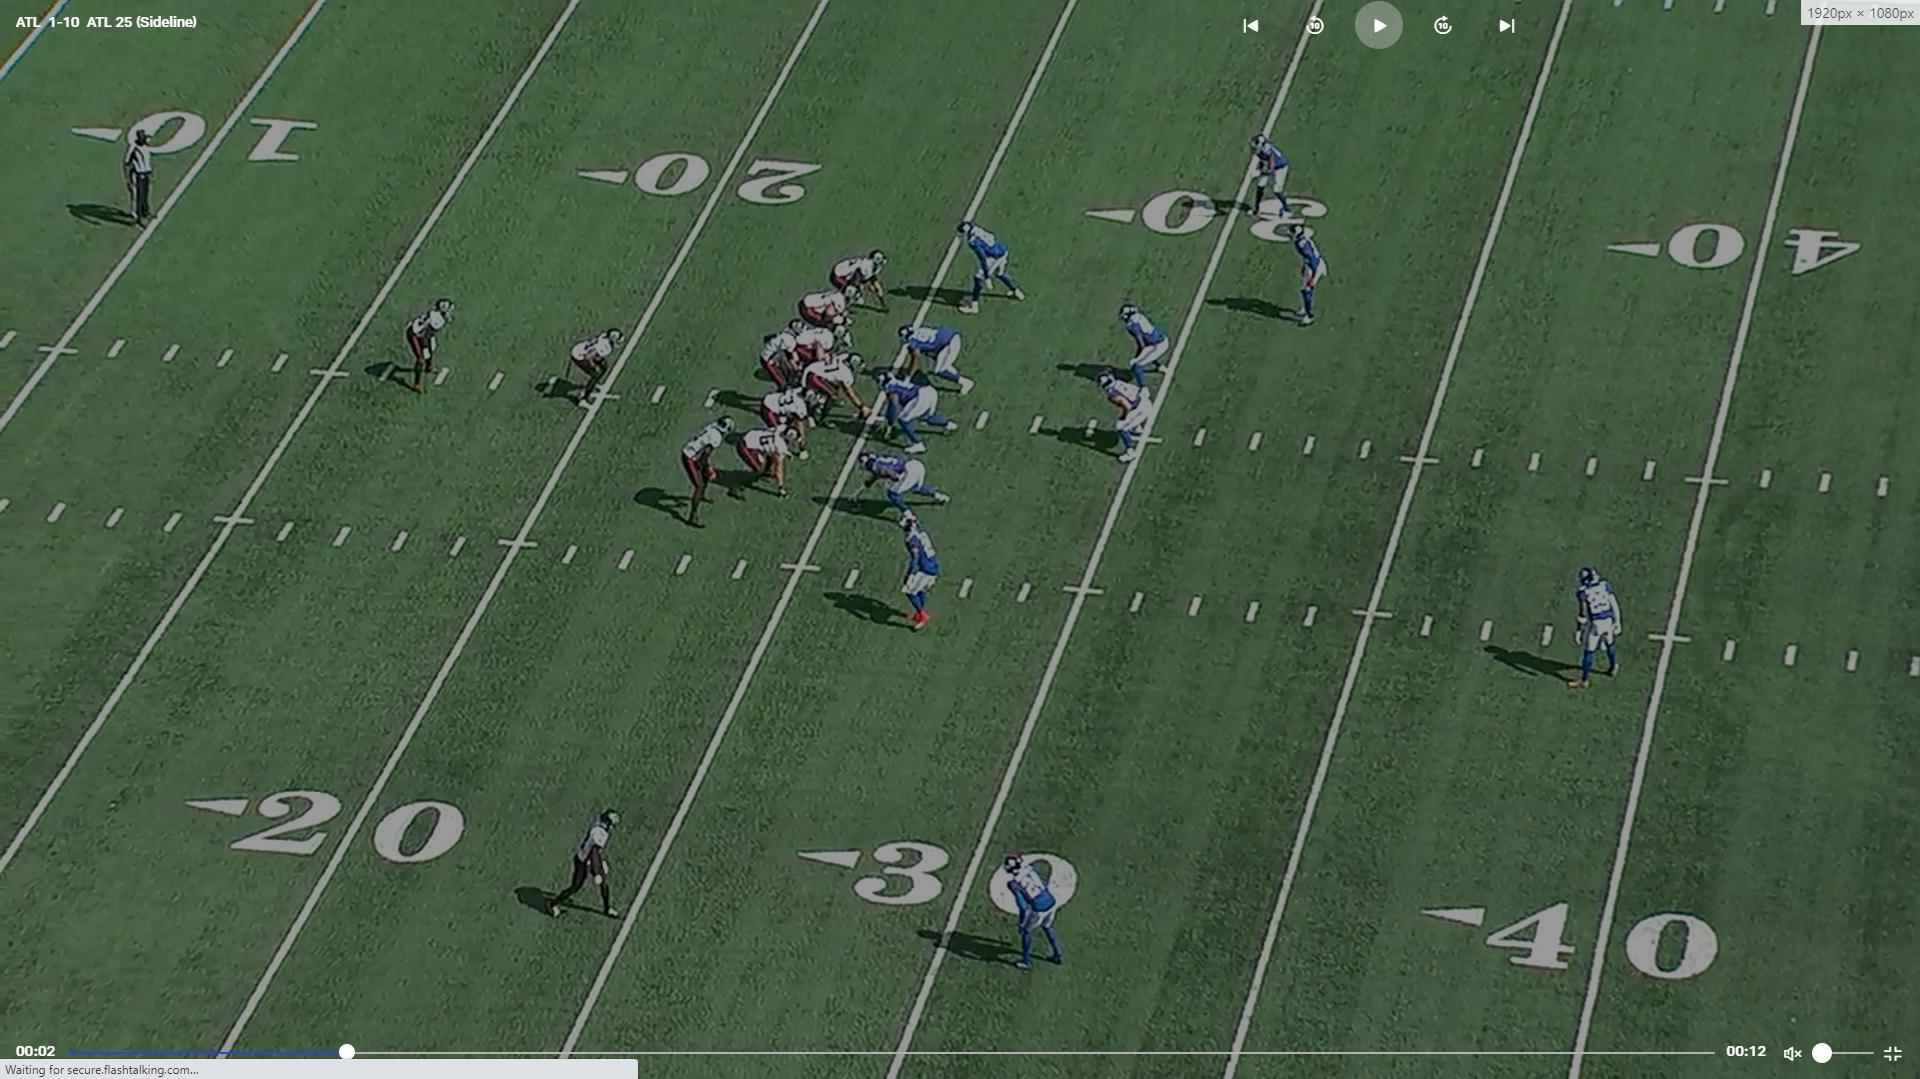player: (542, 805, 636, 935), (1002, 850, 1074, 978), (848, 444, 948, 523), (872, 371, 961, 455), (954, 219, 1026, 319), (679, 415, 739, 533), (1569, 563, 1620, 690), (896, 321, 977, 399), (403, 293, 461, 399), (1093, 367, 1152, 467), (898, 513, 945, 637), (566, 325, 627, 415), (802, 350, 870, 429), (1120, 301, 1175, 394), (825, 244, 894, 317), (757, 388, 825, 461), (731, 425, 799, 498), (1246, 132, 1295, 222), (756, 322, 811, 400), (1287, 227, 1325, 333), (795, 287, 860, 347), (786, 324, 845, 381)
ref: (120, 126, 162, 234)
